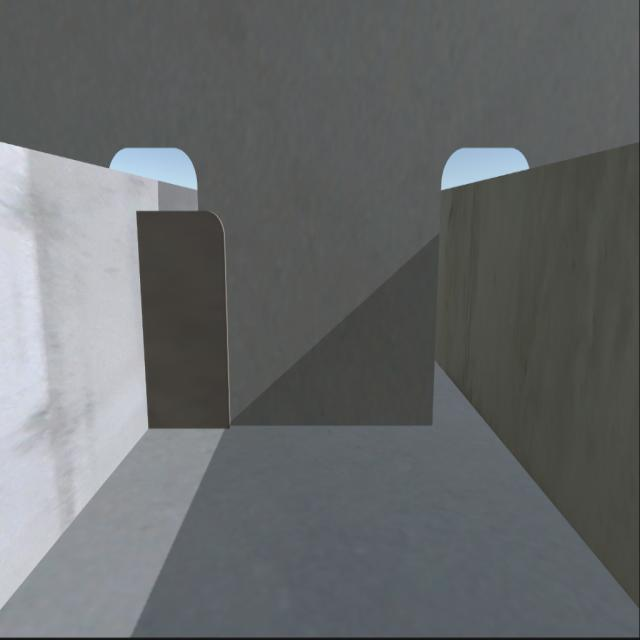fillet_yong_jeop_jang: (148, 412, 435, 436)
longi_yong_jeop_jang: (130, 209, 148, 437)
plate_CP05: (135, 204, 229, 429)
